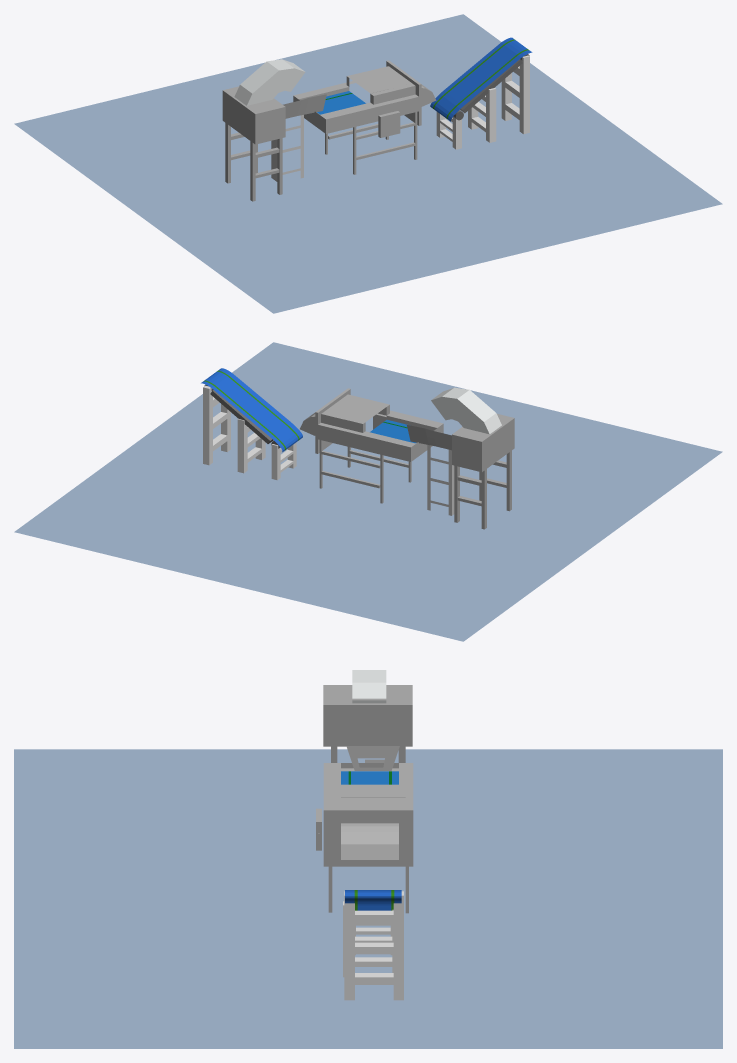
Rendered from machine3.glb.
The picture shows the model from 3 angles, top to bottom: view 1: azimuth 30°, elevation 25°; view 2: azimuth 150°, elevation 25°; view 3: azimuth 270°, elevation 25°; orthographic projection. The views are drawn at different scales.
Visible parts, largest first — view 1: Plane, Cube, Cube.001, Cube.007, Cylinder.001, Cube.006, Cube.005, Cylinder.003; view 2: Plane, Cube, Cube.001, Cube.007, Cylinder.001, Cube.006, Cube.005, Cylinder.003; view 3: Plane, Cube, Cube.001, Cube.007, Cube.006, Cylinder.001, Cube.005.
Boxes of the visible parts, x1=… form: Plane: x1=14, y1=14, x2=722, y2=313; Cube: x1=293, y1=60, x2=436, y2=174; Cube.001: x1=222, y1=86, x2=285, y2=201; Cube.007: x1=436, y1=55, x2=529, y2=149; Cylinder.001: x1=430, y1=37, x2=532, y2=121; Cube.006: x1=234, y1=59, x2=305, y2=105; Cube.005: x1=271, y1=94, x2=326, y2=181; Cylinder.003: x1=460, y1=54, x2=529, y2=113; Plane: x1=14, y1=342, x2=722, y2=641; Cube: x1=300, y1=388, x2=443, y2=503; Cube.001: x1=452, y1=413, x2=514, y2=529; Cube.007: x1=203, y1=385, x2=296, y2=480; Cylinder.001: x1=201, y1=368, x2=302, y2=452; Cube.006: x1=431, y1=387, x2=501, y2=434; Cube.005: x1=407, y1=425, x2=454, y2=515; Cylinder.003: x1=204, y1=384, x2=273, y2=443; Plane: x1=14, y1=749, x2=722, y2=1048; Cube: x1=316, y1=763, x2=413, y2=913; Cube.001: x1=323, y1=685, x2=412, y2=762; Cube.007: x1=343, y1=891, x2=403, y2=1000; Cube.006: x1=352, y1=670, x2=386, y2=703; Cylinder.001: x1=345, y1=890, x2=401, y2=910; Cube.005: x1=346, y1=746, x2=399, y2=770.
Bounding box in the file's own units: 15.88 × 4.09 × 15.88.
